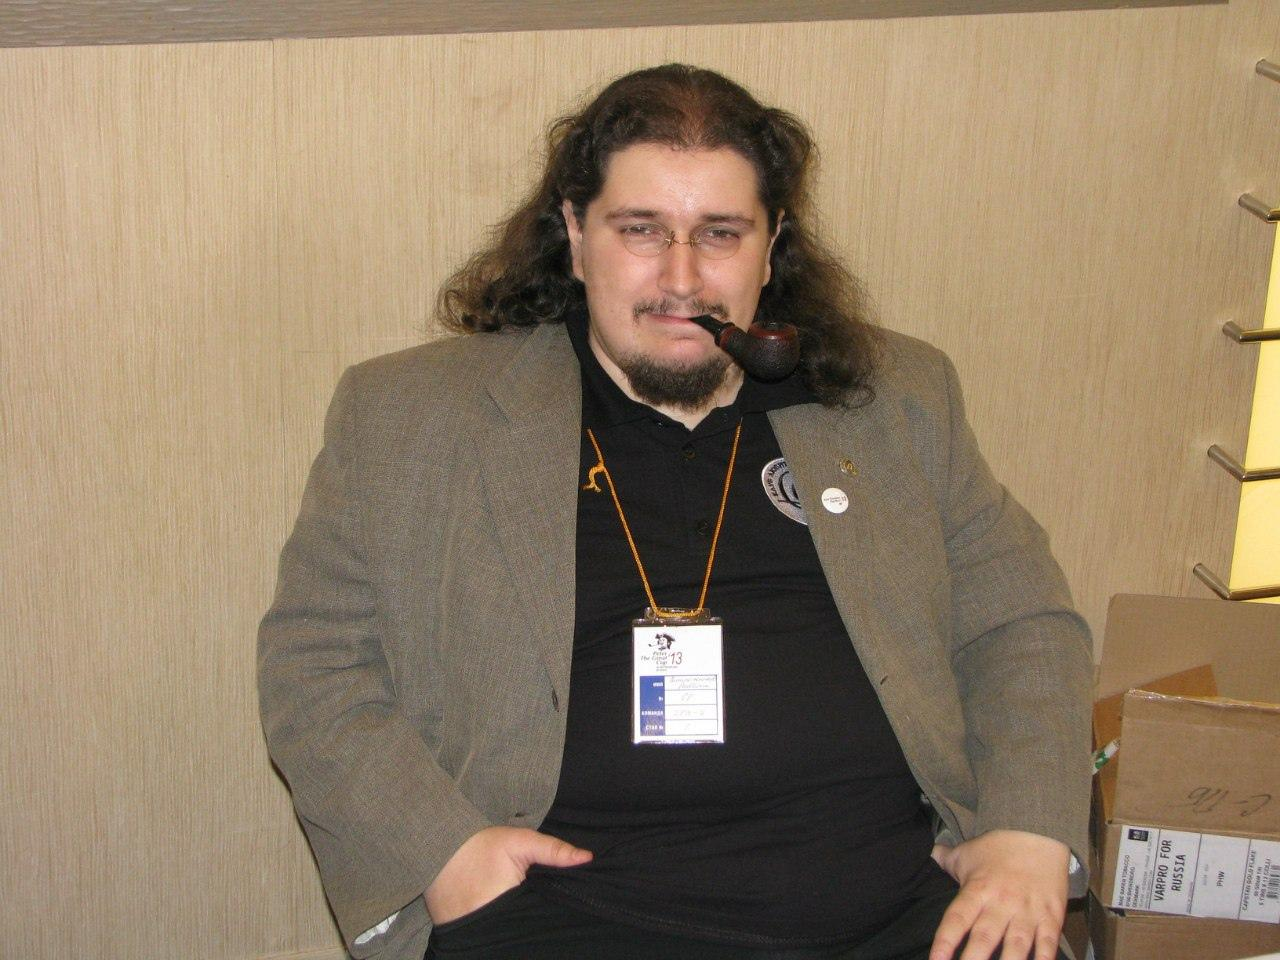trubka: (688, 314, 800, 380)
